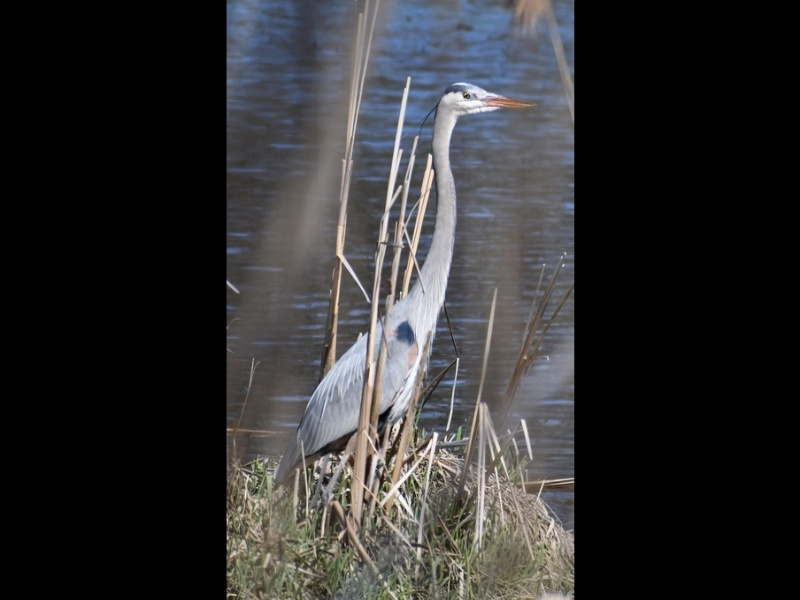heron: (276, 80, 538, 548)
